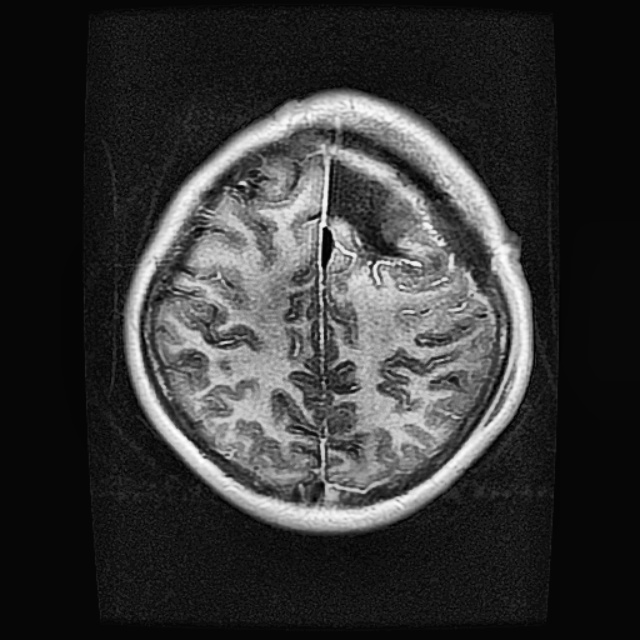Glioma: (325, 154, 432, 263)
